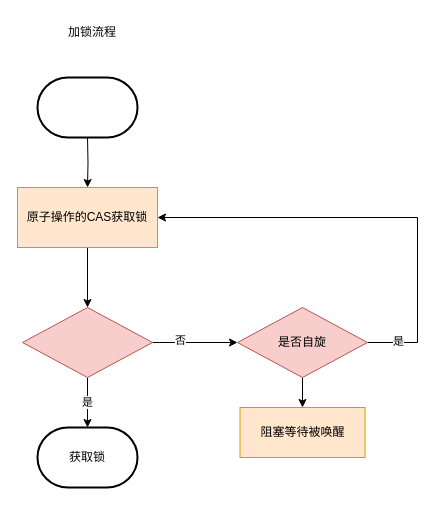
Image size: 443x505. Some labels were removed from this diagram. The shapes that lost their labels are listed below. From the top down, each one's box as (x1, y1, x2, y2) in pixels, then its label:
(36, 76, 138, 138): 开始
(22, 306, 152, 378): 是否成功
